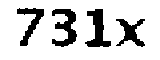1: (86, 7, 113, 50)
3: (49, 6, 82, 52)
7: (14, 5, 46, 53)
x: (116, 16, 149, 51)
